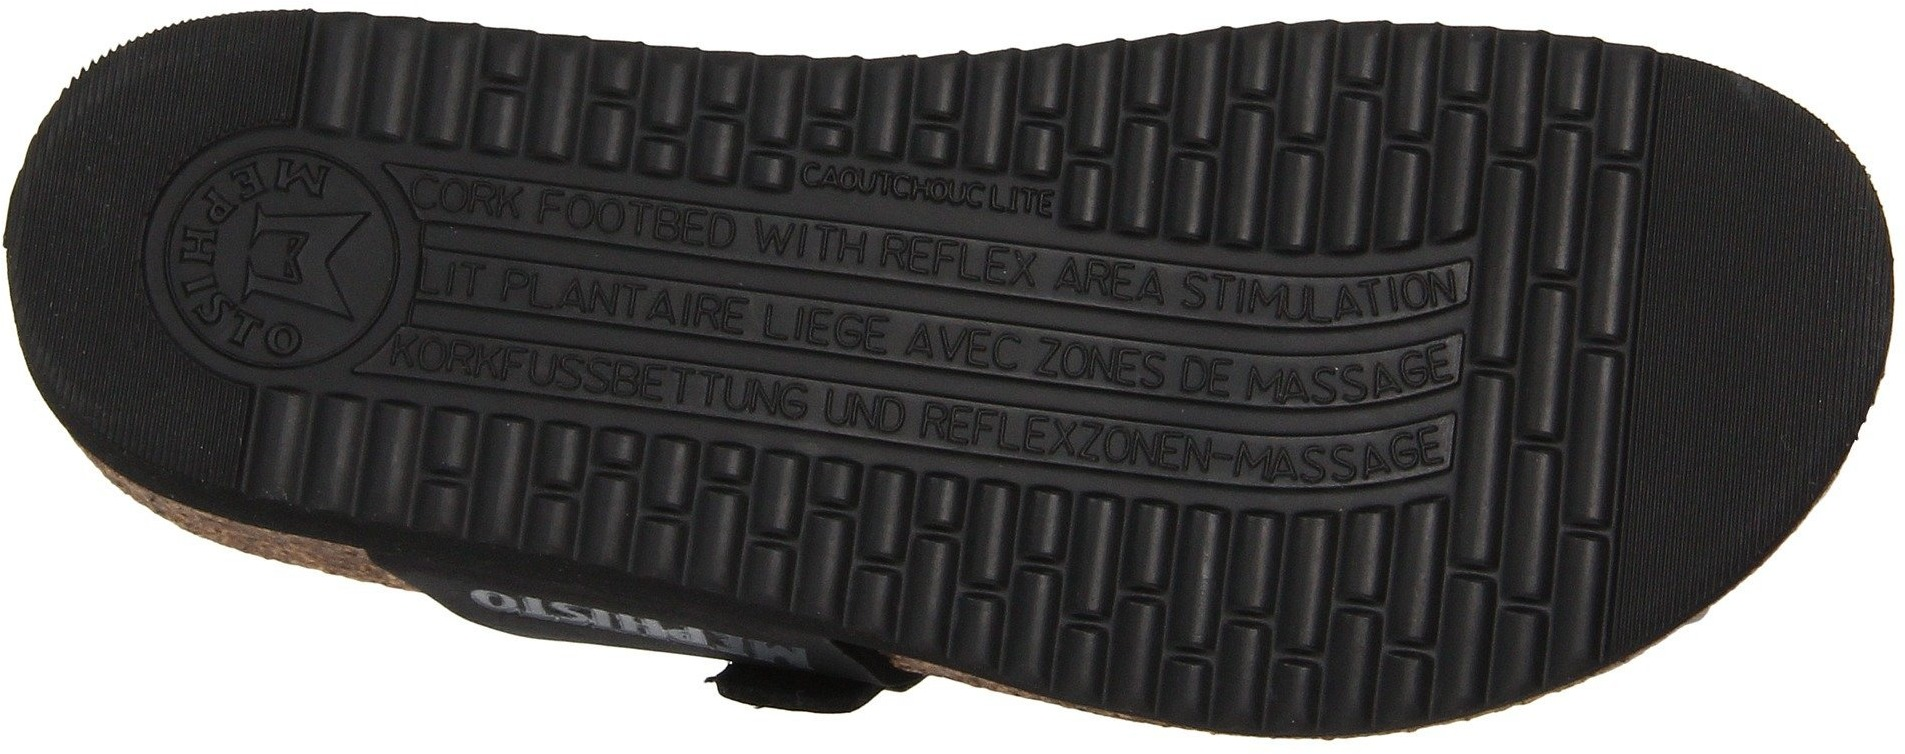circle: (124, 113, 425, 399)
line: (124, 113, 425, 399)
other: (1645, 117, 1845, 321), (1626, 307, 1831, 504), (1618, 333, 1802, 523), (13, 168, 147, 299)
quad: (1251, 32, 1504, 251), (1205, 506, 1453, 718), (1004, 494, 1219, 693), (1065, 59, 1257, 236)
ribbon: (572, 164, 901, 458), (858, 206, 1182, 497), (1146, 239, 1469, 525)
text: (124, 113, 425, 399), (224, 189, 381, 333), (959, 144, 1067, 246), (793, 127, 901, 223)
triangle: (124, 113, 425, 399)
